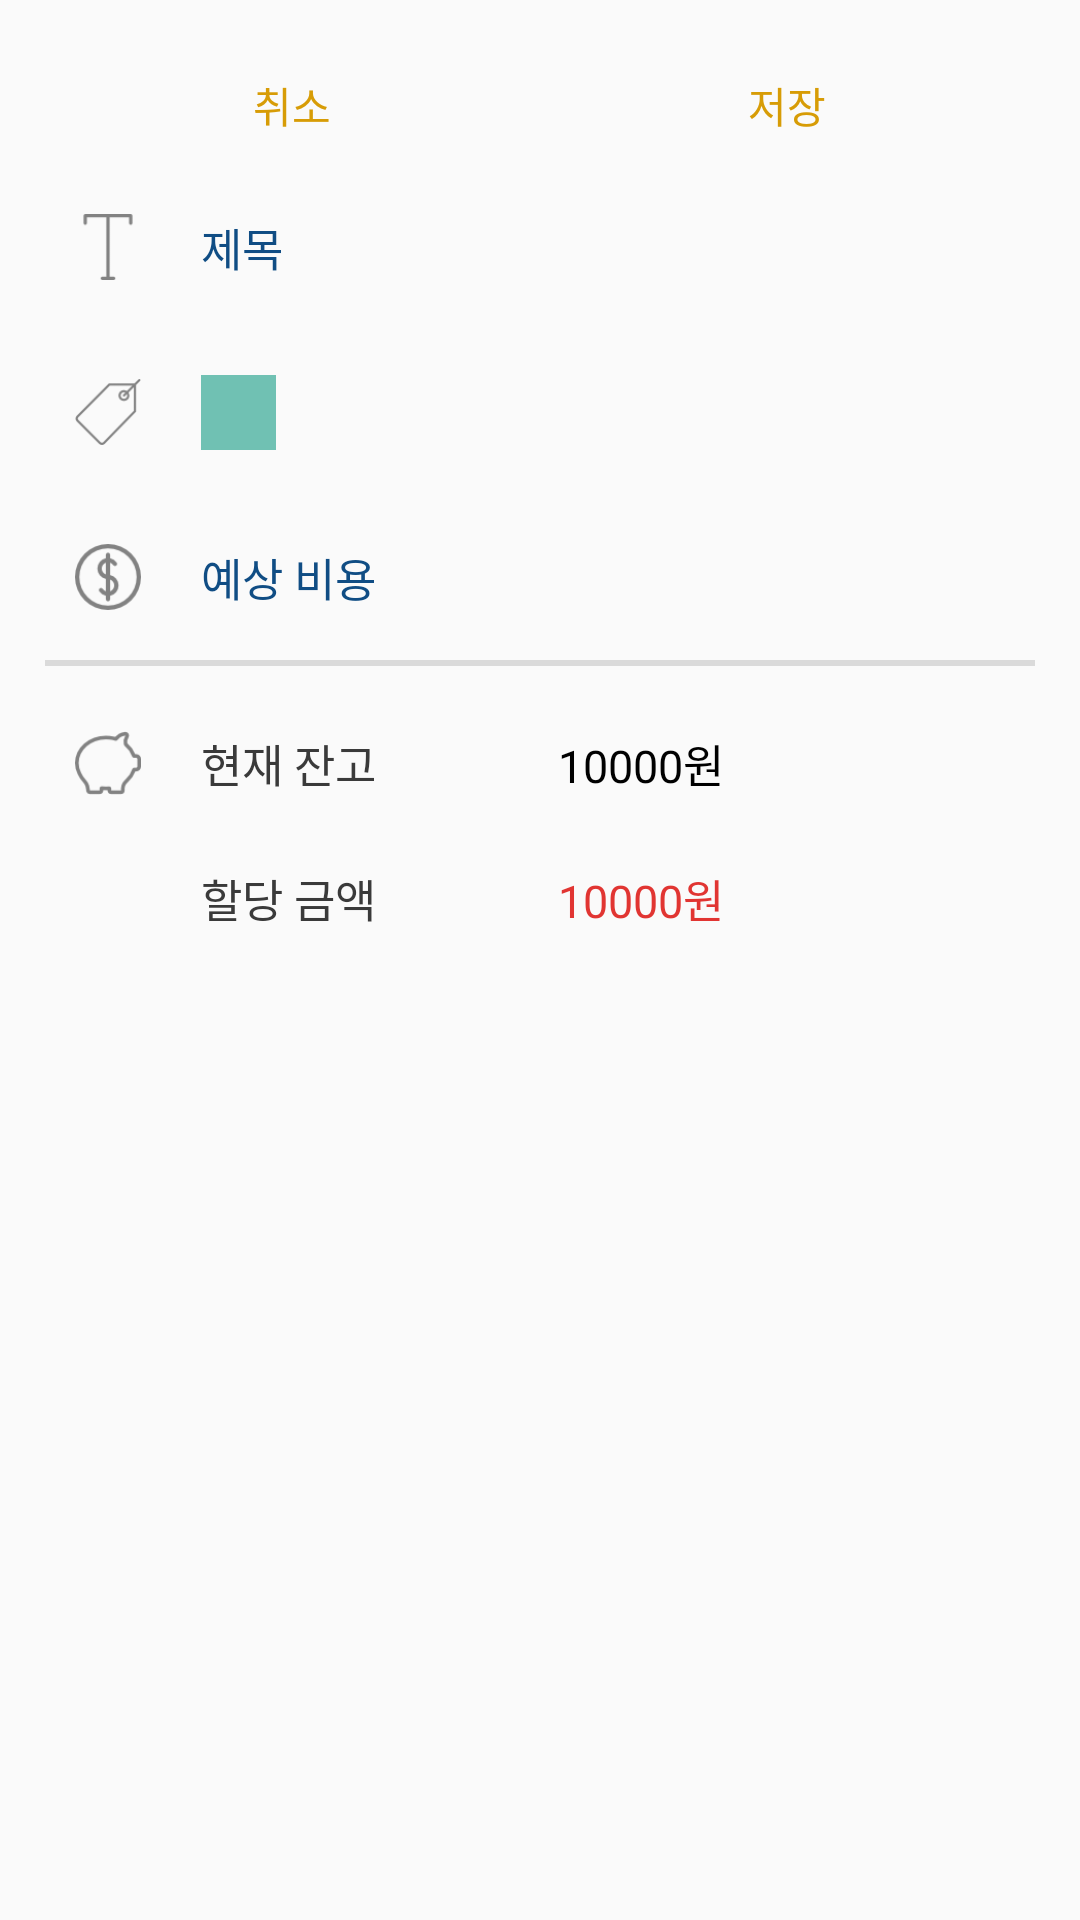

Where to tap for icons on this 1080 x 1920 app screen, as [x,y]:
balance: [108,763]
coin: [108,577]
tag: [108,412]
text: [108,247]
